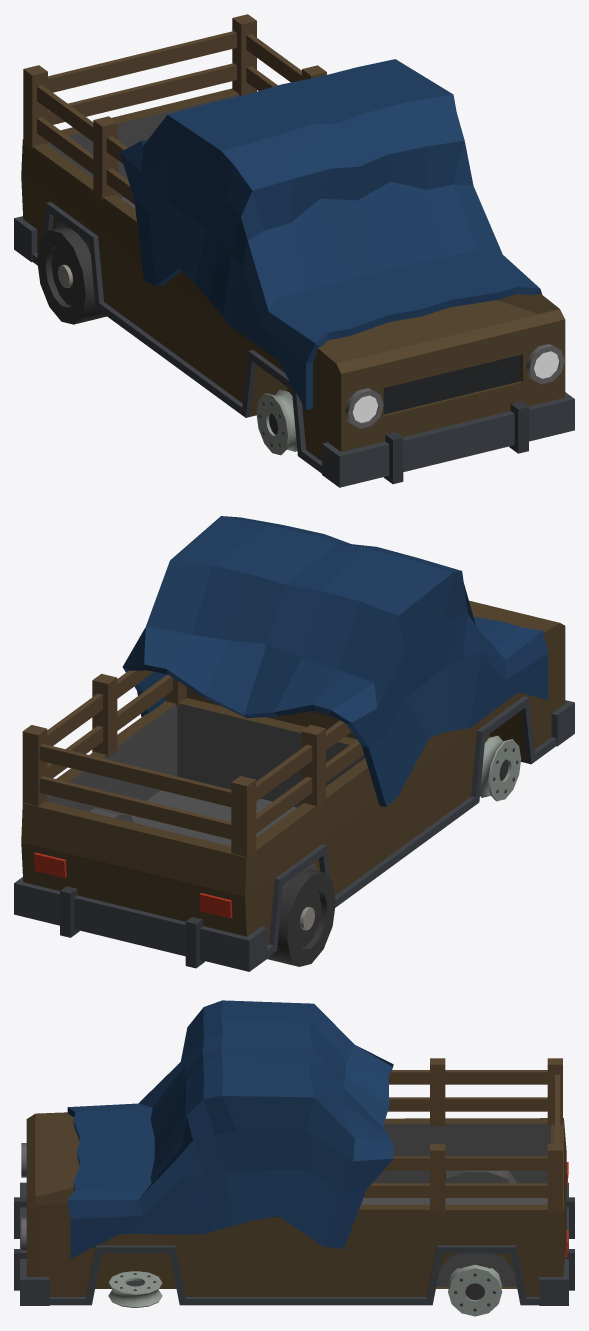
File: CrashedCar_1.fbx
3 views of the same model, one above another, from view 1: azimuth 30°, elevation 25°; view 2: azimuth 150°, elevation 25°; view 3: azimuth 270°, elevation 25° (orthographic). The views are drawn at different scales.
Visible parts, largest first — view 1: CrashedCar_1; view 2: CrashedCar_1; view 3: CrashedCar_1.
Part boxes in pixels (x1=…): CrashedCar_1: x1=14, y1=14, x2=574, y2=487; CrashedCar_1: x1=14, y1=516, x2=574, y2=971; CrashedCar_1: x1=14, y1=1000, x2=574, y2=1316.
Bounding box in the file's own units: 185 × 194 × 414.
